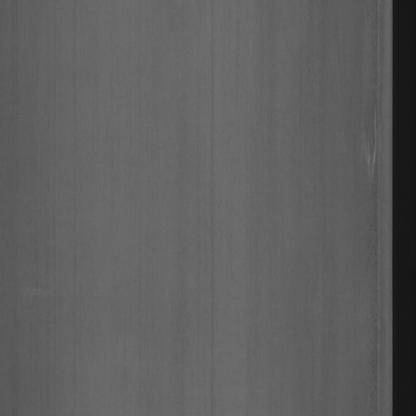silk_spot: (351, 78, 389, 198)
